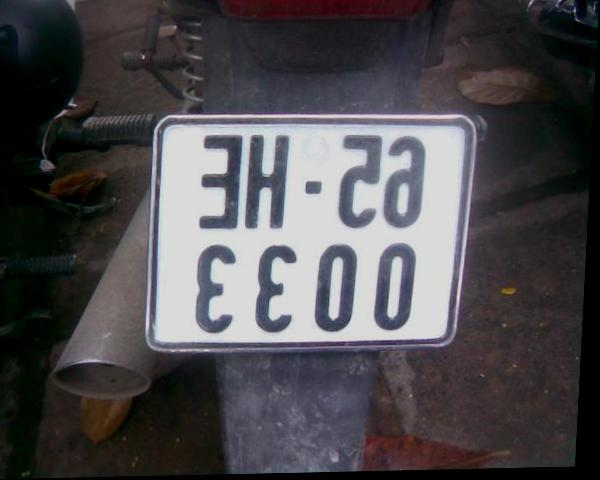License_Plate: (148, 109, 480, 350)
